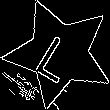L_NE: (32, 24, 86, 83)
